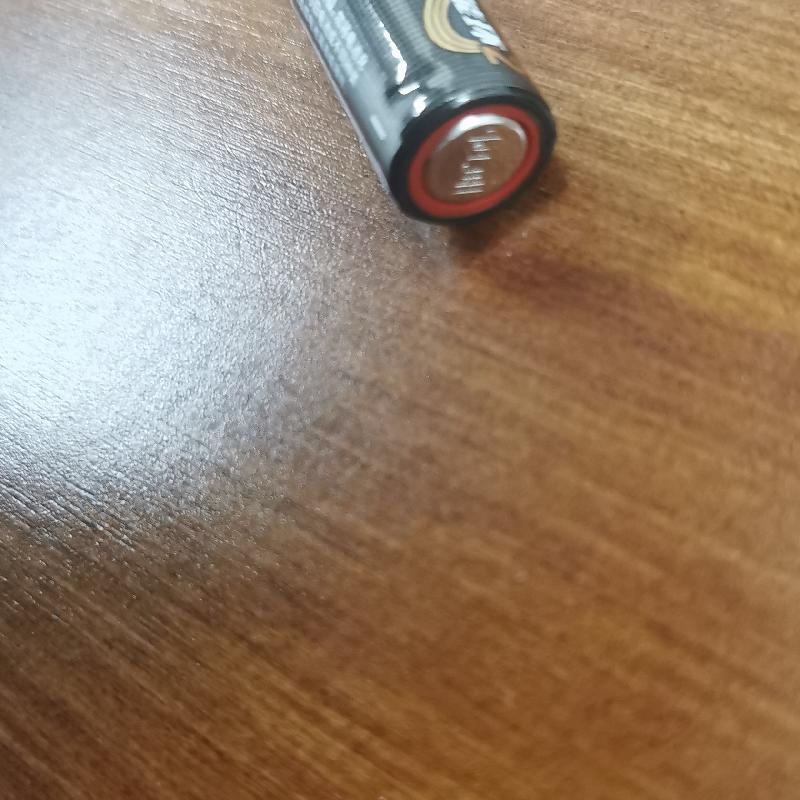battery: (285, 7, 562, 222)
